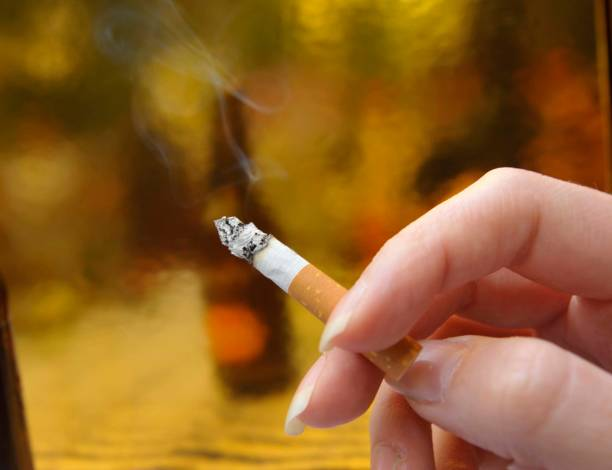cigarette: (213, 216, 426, 386)
